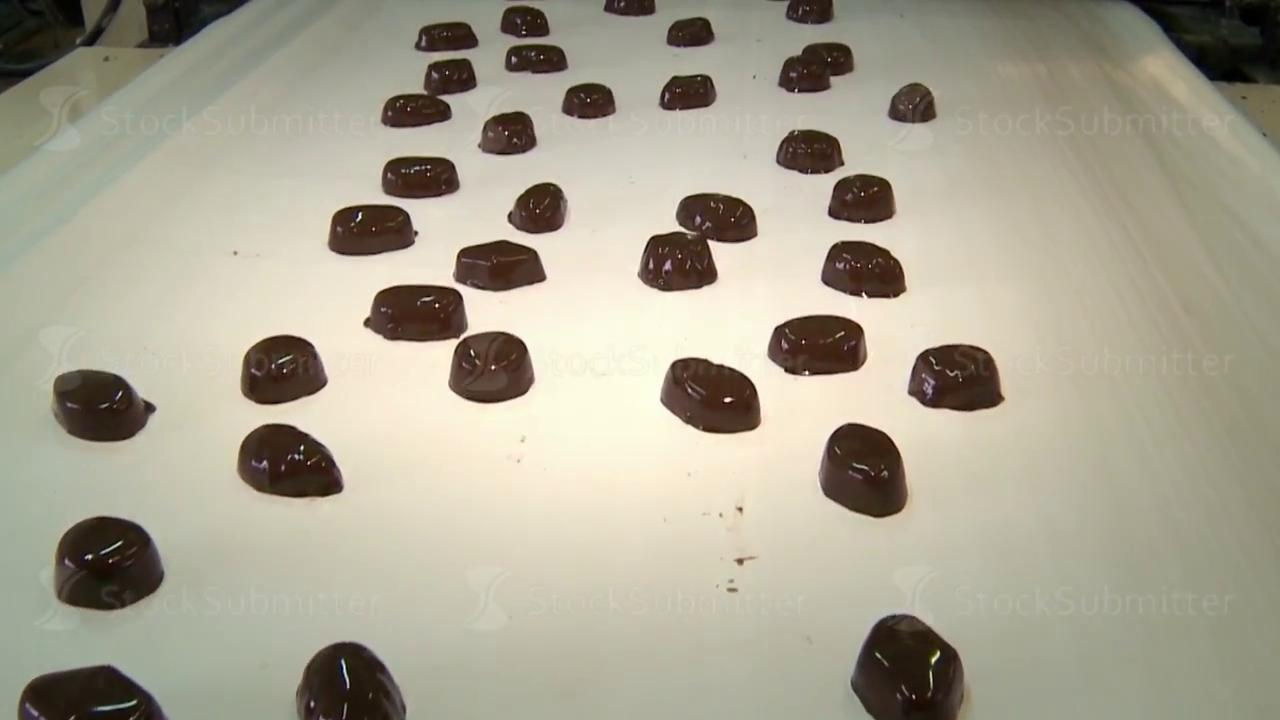chocolate: (850, 613, 965, 719), (54, 515, 164, 610), (295, 641, 406, 719), (818, 422, 908, 517), (17, 664, 167, 719), (237, 422, 343, 497), (660, 356, 761, 433), (52, 368, 155, 442), (908, 343, 1003, 411), (448, 330, 534, 403), (768, 314, 867, 376), (240, 334, 327, 404), (364, 284, 467, 341), (821, 240, 906, 298), (638, 230, 717, 291), (454, 239, 546, 291), (328, 203, 417, 255), (676, 192, 757, 242), (828, 173, 895, 223), (382, 156, 459, 198), (776, 128, 843, 174), (508, 182, 567, 233), (479, 110, 536, 154), (381, 93, 451, 127), (659, 73, 716, 110), (888, 82, 936, 123), (562, 82, 615, 119), (424, 57, 476, 94), (414, 21, 478, 51), (505, 43, 567, 73), (501, 5, 549, 37), (666, 16, 714, 47), (786, 0, 833, 24)
